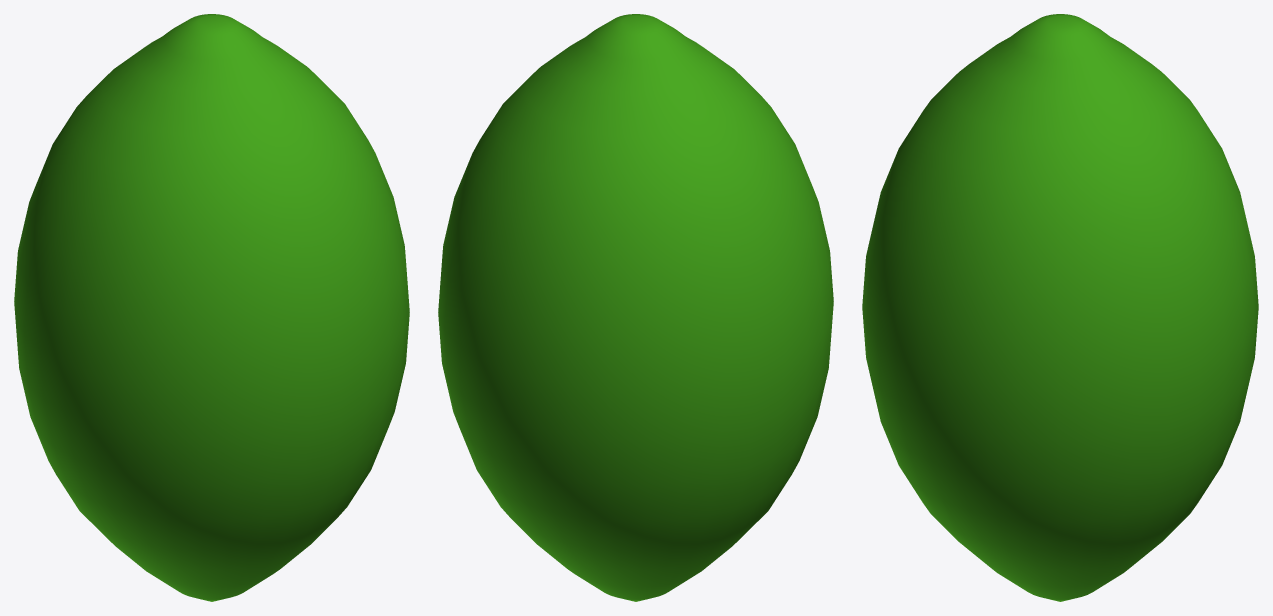
The model's file is Fruit_Lime.fbx.
The picture shows the model from 3 angles, left to right: view 1: azimuth 30°, elevation 25°; view 2: azimuth 150°, elevation 25°; view 3: azimuth 270°, elevation 25°; orthographic projection.
Visible parts, largest first — view 1: Lime; view 2: Lime; view 3: Lime.
Boxes of the visible parts, x1,y1,x2,y2 form: Lime: [14, 14, 409, 601]; Lime: [438, 14, 833, 601]; Lime: [862, 14, 1258, 601].
Size of the model in its own units: 137 by 222 by 137.
